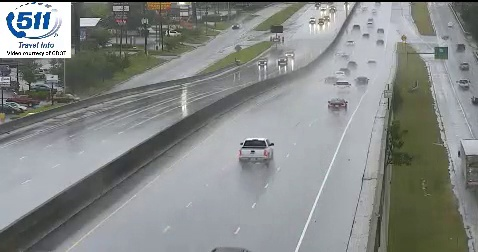car: (239, 137, 273, 164), (328, 98, 346, 112)
